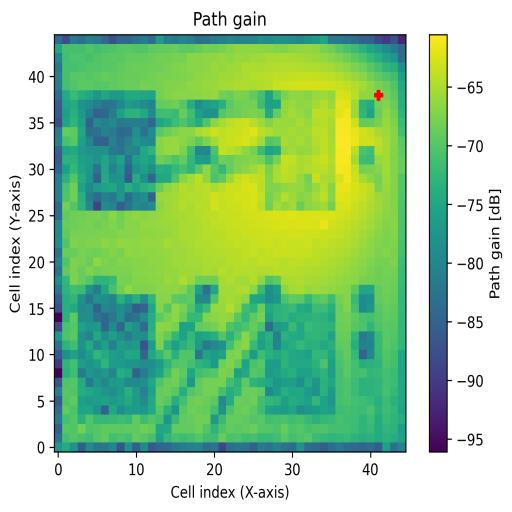Concrete: (265, 91, 336, 209)
Glass: (78, 90, 156, 210)
Metal: (265, 296, 335, 416)
Wood: (77, 295, 156, 414)
